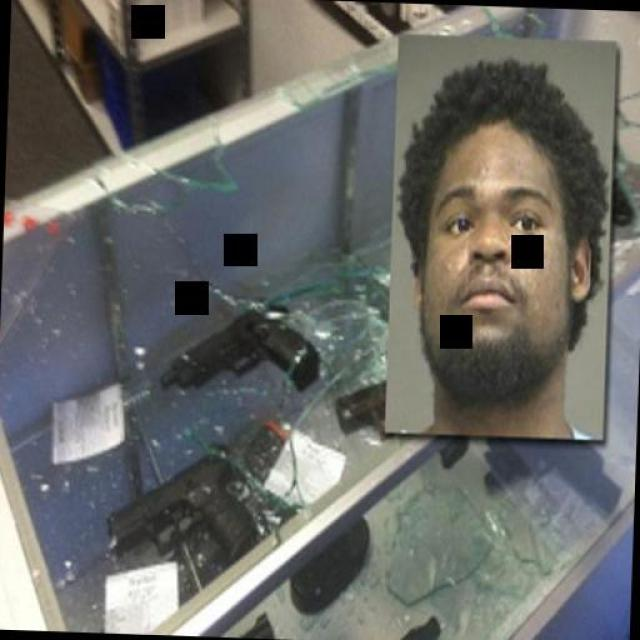gun: (150, 279, 324, 406), (98, 441, 258, 571)
